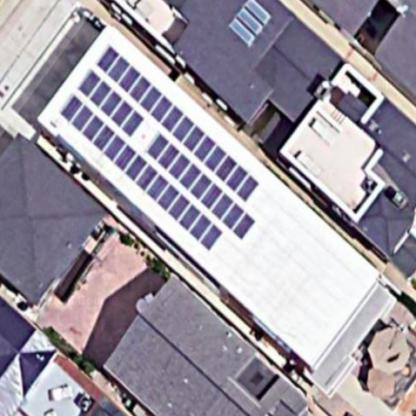solar_panel: (58, 30, 263, 254)
